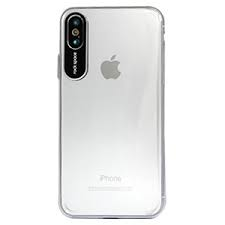iphone: (56, 6, 168, 219)
iphone10: (56, 5, 168, 218)
